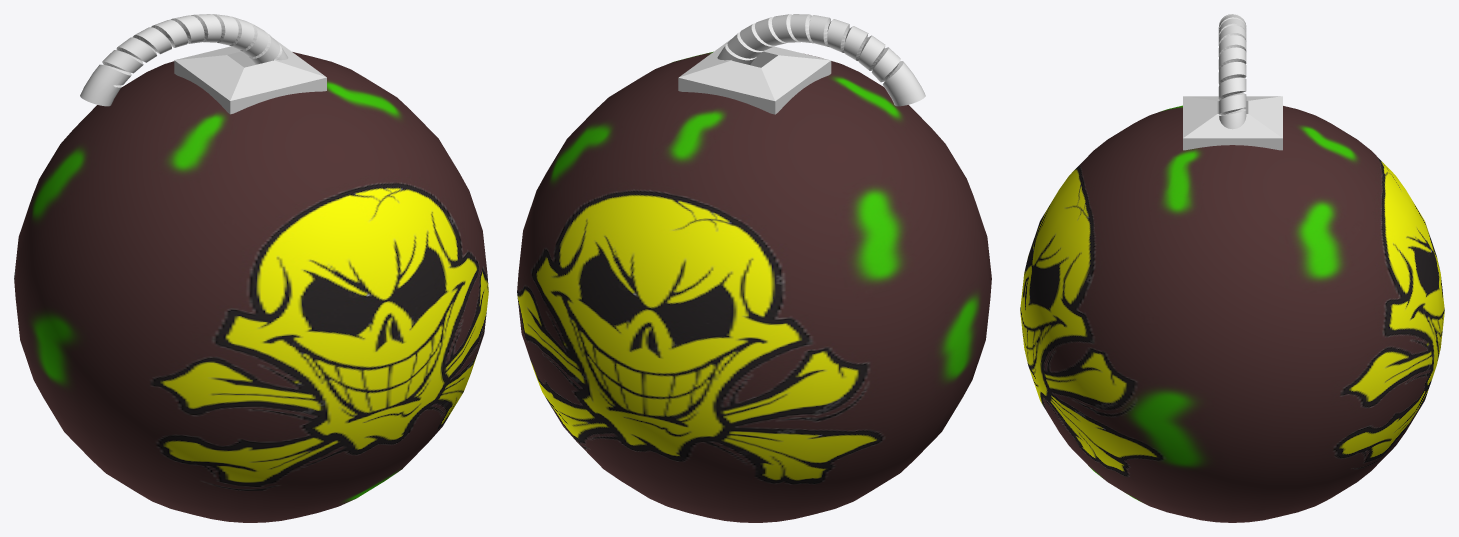
3 renders of one model, left to right at view 1: azimuth 30°, elevation 25°; view 2: azimuth 150°, elevation 25°; view 3: azimuth 270°, elevation 25°, orthographic. The views are drawn at different scales.
Parts seen in each view (by area): view 1: Sphere002, Plane012, Box080; view 2: Sphere002, Plane012, Box080; view 3: Sphere002, Box080, Plane012.
Boxes of the visible parts, <box> form: Sphere002: <box>14,52,488,522</box>; Plane012: <box>80,14,288,106</box>; Box080: <box>174,39,326,114</box>; Sphere002: <box>517,51,991,522</box>; Plane012: <box>717,14,925,106</box>; Box080: <box>678,38,831,114</box>; Sphere002: <box>1020,105,1444,522</box>; Box080: <box>1183,96,1282,150</box>; Plane012: <box>1218,14,1246,129</box>.
Bounding box in the file's own units: 5310 × 6077 × 5310.
